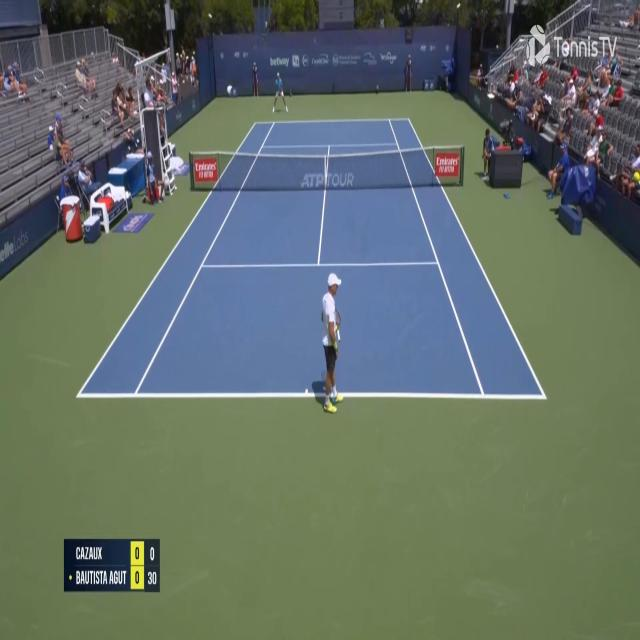tennis-player: (311, 270, 344, 416), (271, 71, 289, 114)
